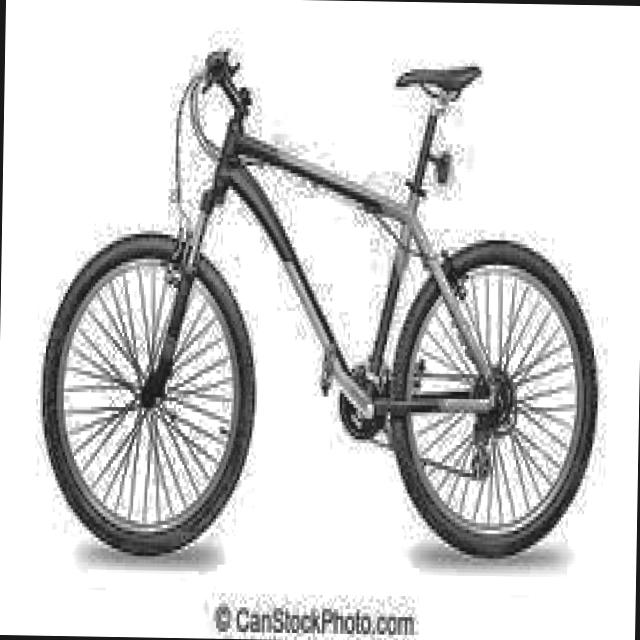bicycle: (41, 35, 604, 571)
